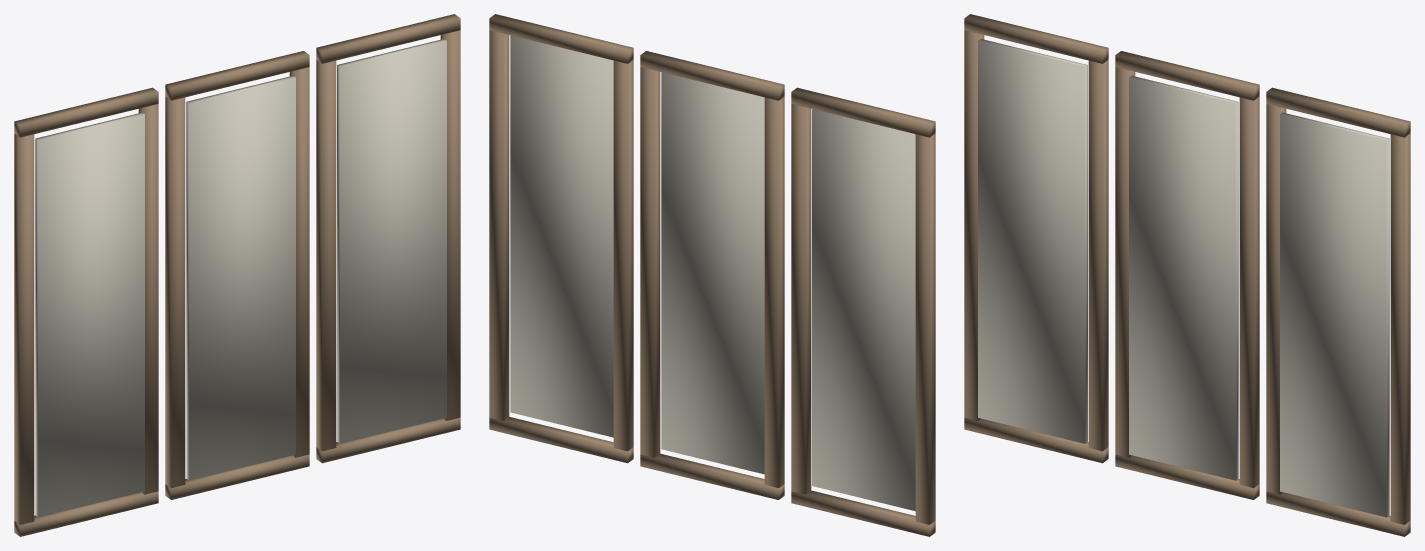
Rendered from funeral_folding_screen__wide.glb.
3 views of the same model, side by side, from view 1: azimuth 30°, elevation 25°; view 2: azimuth 150°, elevation 25°; view 3: azimuth 330°, elevation 25° (orthographic).
Visible parts, largest first — view 1: world; view 2: world; view 3: world.
Part boxes in pixels (x1,y1,x2,y2): world: (14, 14, 460, 536); world: (489, 14, 935, 536); world: (964, 14, 1410, 536).
Size of the model in its own units: 1.74 by 1.55 by 0.055.
